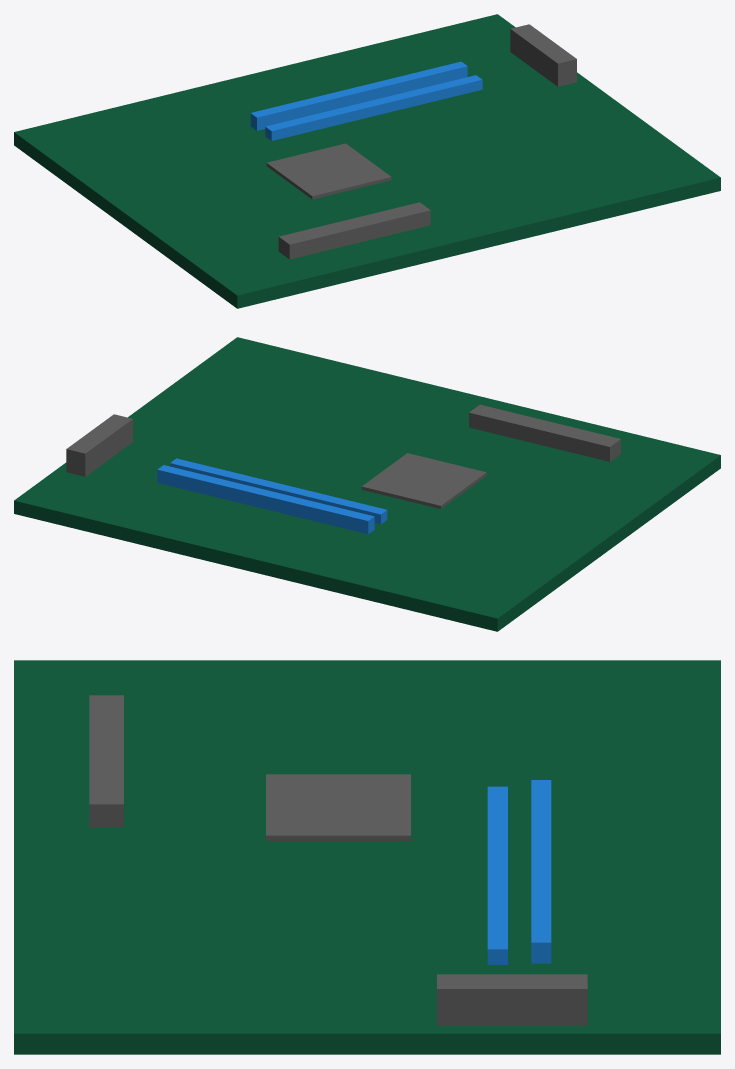
The model's file is Motherboard.fbx.
3 views of the same model, one above another, from view 1: azimuth 30°, elevation 25°; view 2: azimuth 150°, elevation 25°; view 3: azimuth 270°, elevation 25° (orthographic). The views are drawn at different scales.
Visible parts, largest first — view 1: Socket_CPU; view 2: Socket_CPU; view 3: Socket_CPU.
Boxes of the visible parts, left/top/right/bottom form: Socket_CPU: left=14, top=14, right=720, bottom=308; Socket_CPU: left=14, top=337, right=720, bottom=631; Socket_CPU: left=14, top=660, right=720, bottom=1054.
Size of the model in its own units: 30.5 by 2.2 by 24.4.
